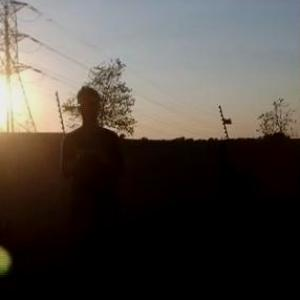follow: (58, 81, 129, 297)
